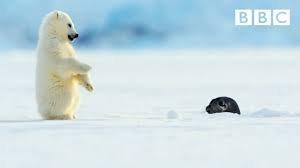bear: (34, 11, 95, 119)
